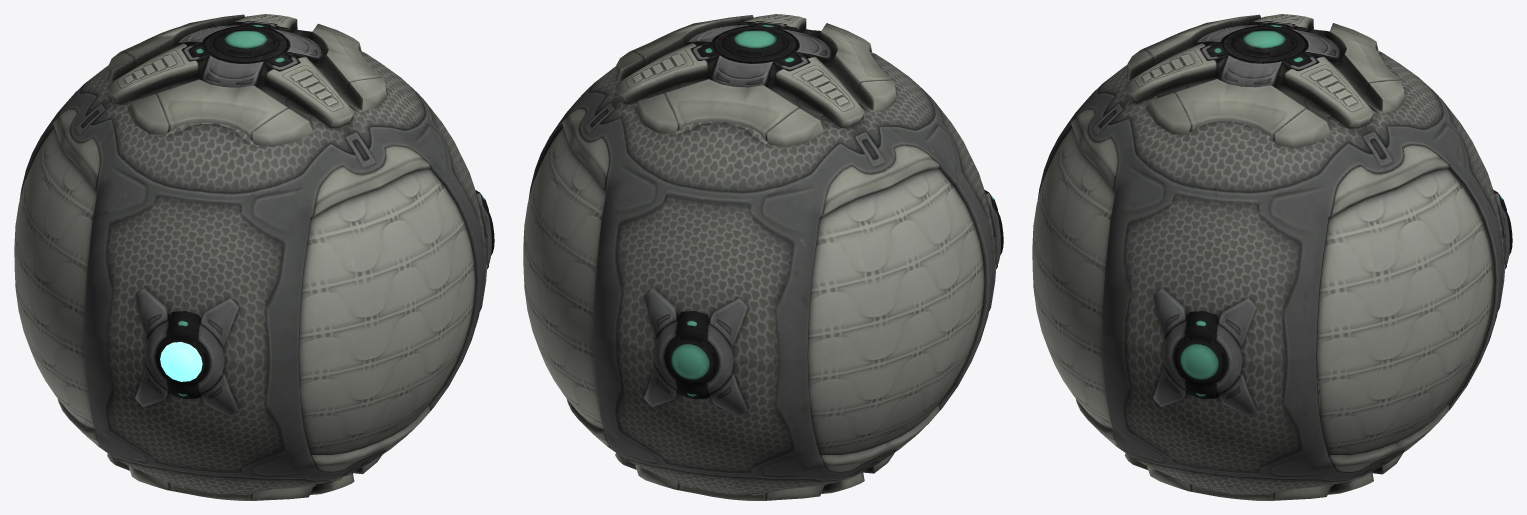
Rendered from ball-com.glb.
The picture shows the model from 3 angles, left to right: view 1: azimuth 30°, elevation 25°; view 2: azimuth 150°, elevation 25°; view 3: azimuth 270°, elevation 25°; orthographic projection.
Visible parts, largest first — view 1: bola_Mat.3_0, bola_Mat.4_0; view 2: bola_Mat.3_0; view 3: bola_Mat.3_0.
Boxes of the visible parts, x1,y1,x2,y2 form: bola_Mat.3_0: (14, 14, 494, 500); bola_Mat.4_0: (160, 342, 202, 381); bola_Mat.3_0: (523, 14, 1003, 500); bola_Mat.3_0: (1032, 14, 1512, 500).
Bounding box in the file's own units: 1.92 × 1.96 × 1.91.
2 materials, 1 textured.
